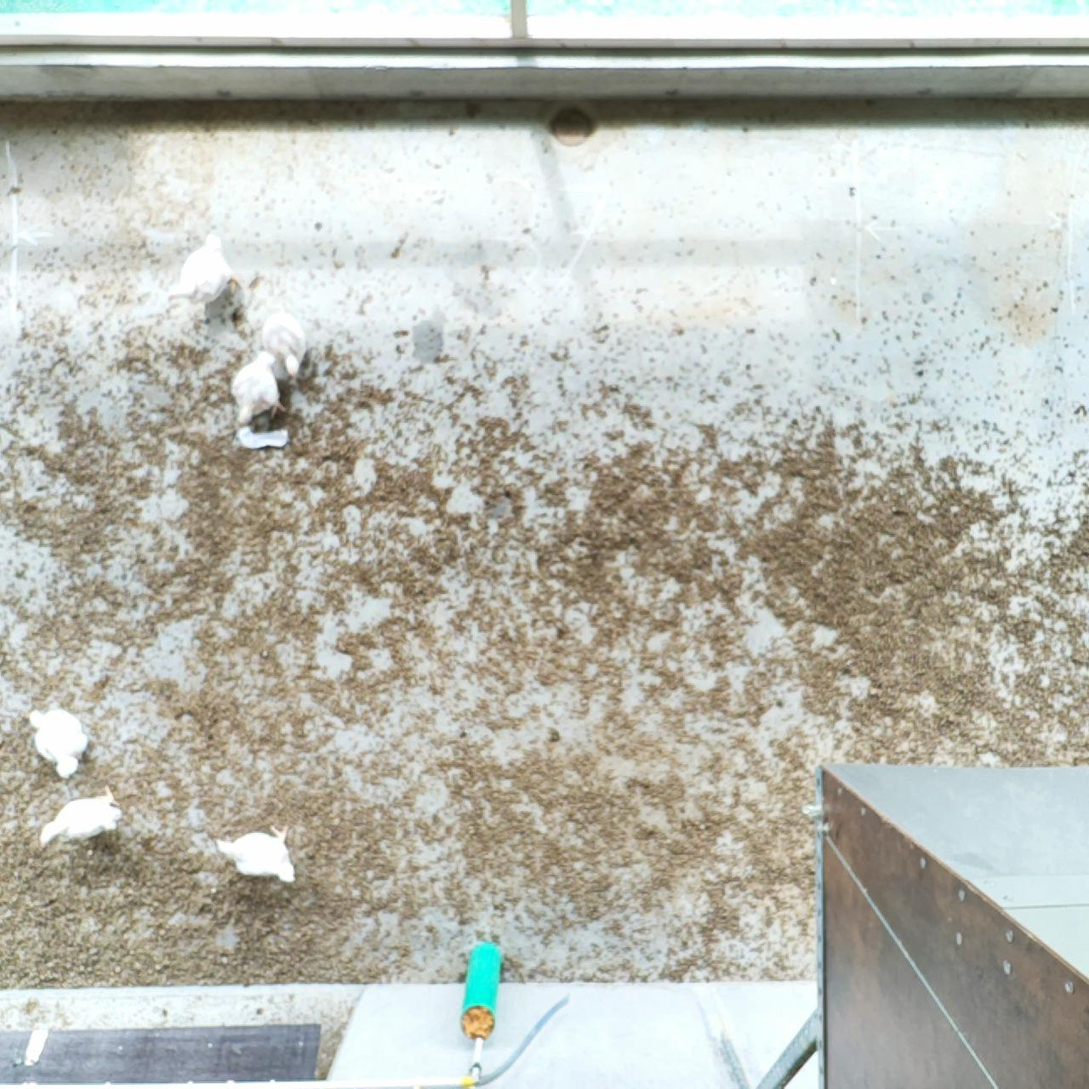chicken: (165, 232, 245, 308), (40, 783, 125, 849), (216, 822, 296, 884), (28, 706, 91, 779), (234, 350, 286, 430), (262, 302, 308, 378)
